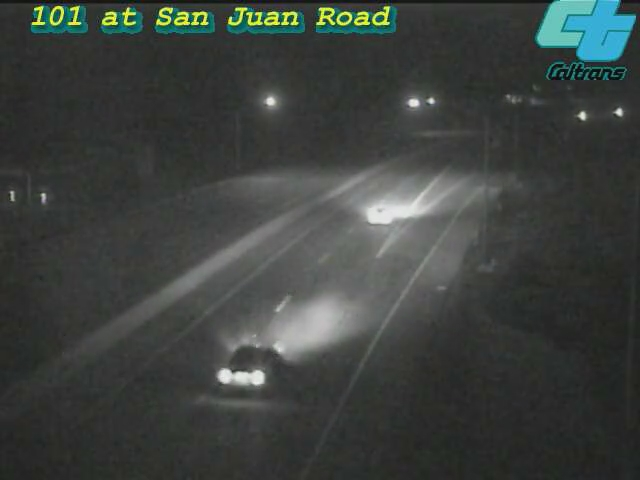vehicle: (195, 309, 305, 419), (340, 175, 420, 255), (554, 91, 604, 141), (592, 87, 640, 137)
